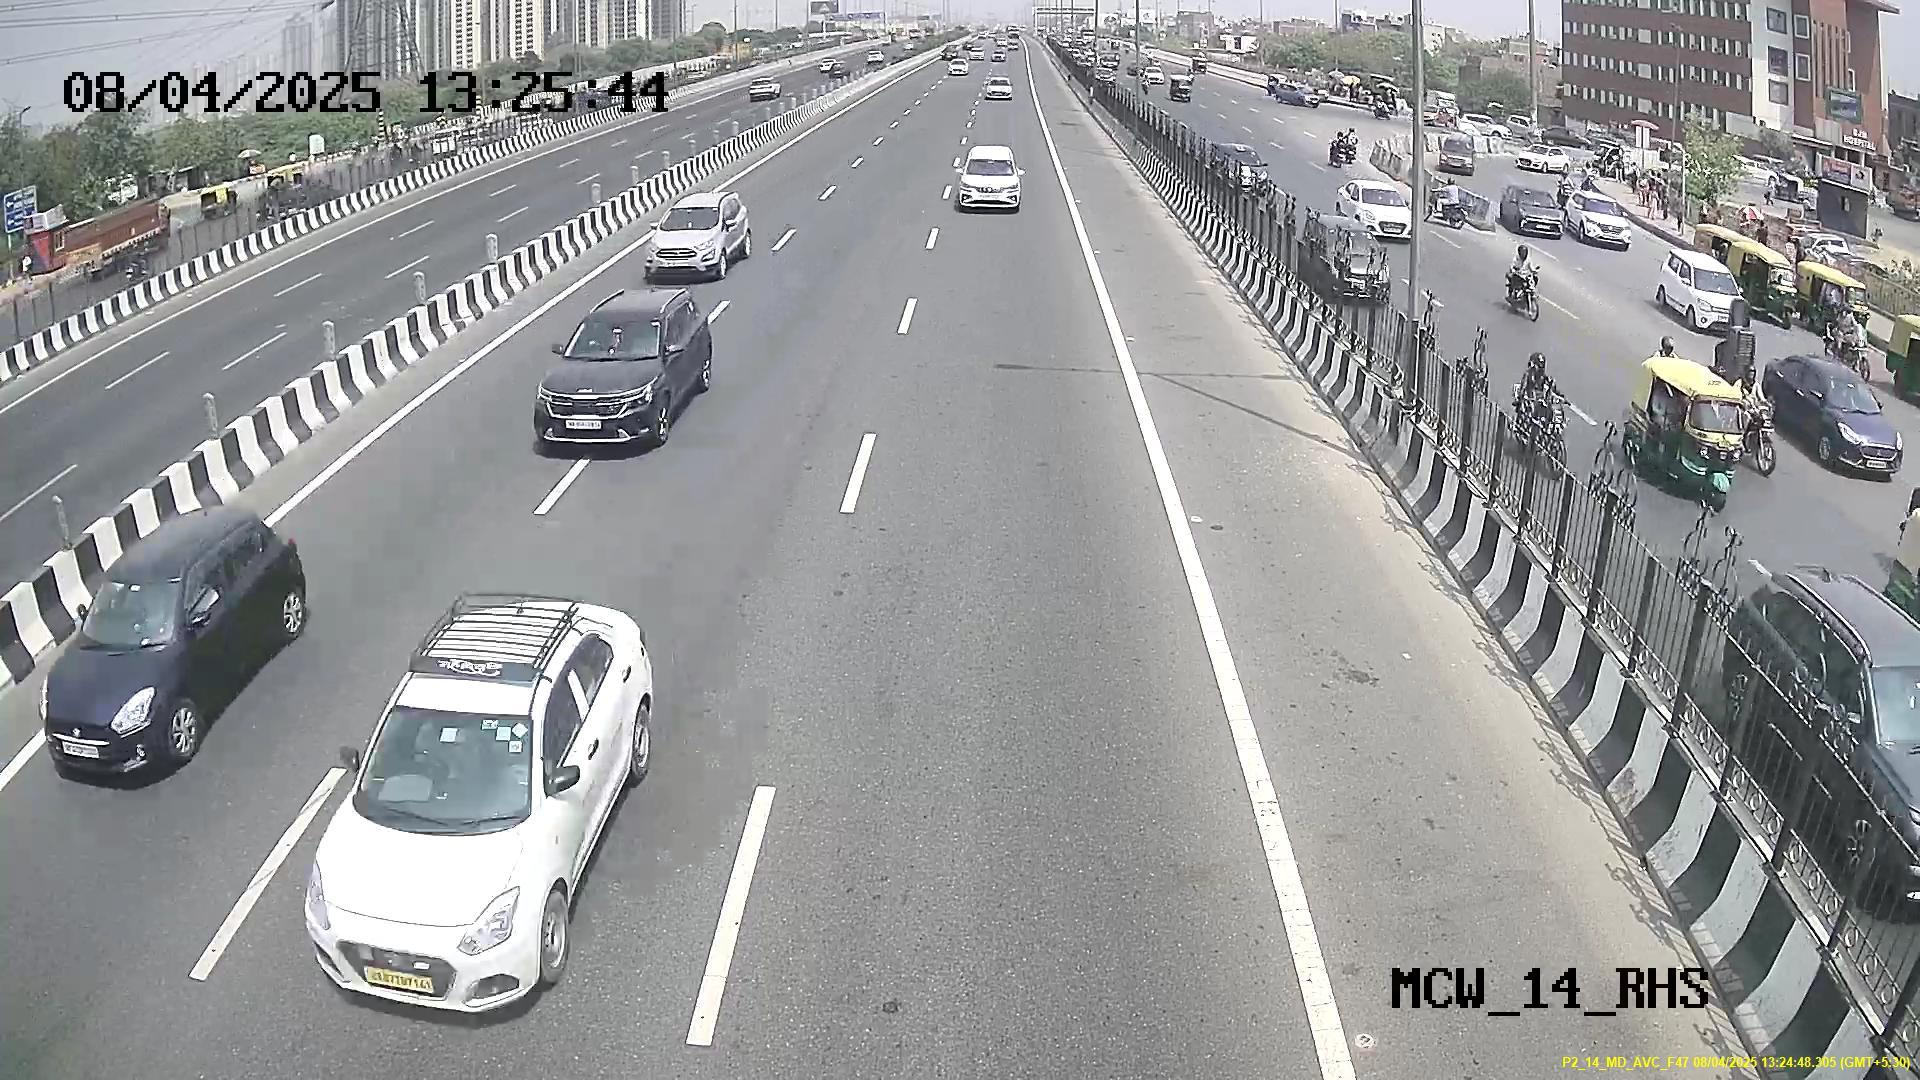car: (298, 680, 579, 1013), (33, 526, 232, 778), (534, 295, 686, 459), (644, 193, 737, 285), (955, 146, 1025, 212)
